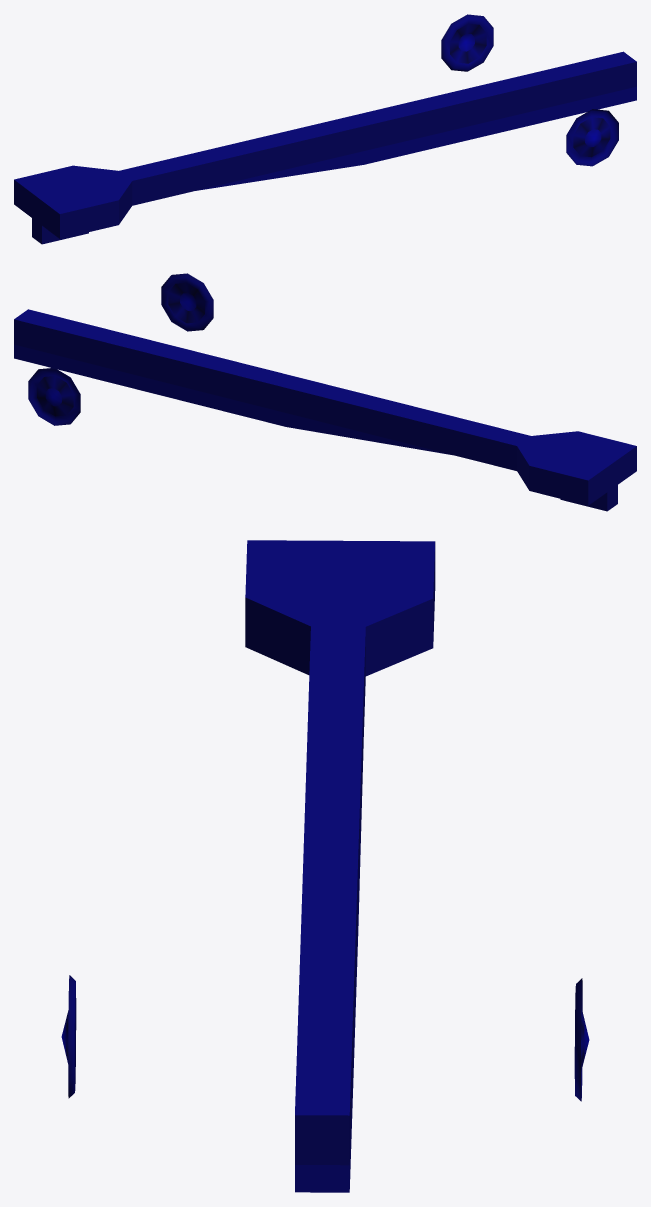
File: refl.048.fbx
3 views of the same model, one above another, from view 1: azimuth 30°, elevation 25°; view 2: azimuth 150°, elevation 25°; view 3: azimuth 270°, elevation 25° (orthographic). The views are drawn at different scales.
Parts seen in each view (by area): view 1: refl.048; view 2: refl.048; view 3: refl.048.
Part boxes in pixels (x1,y1,x2,y2): refl.048: (14, 14, 636, 244); refl.048: (14, 273, 636, 511); refl.048: (61, 540, 589, 1192).
Size of the model in its own units: 234 by 604 by 61.25.
